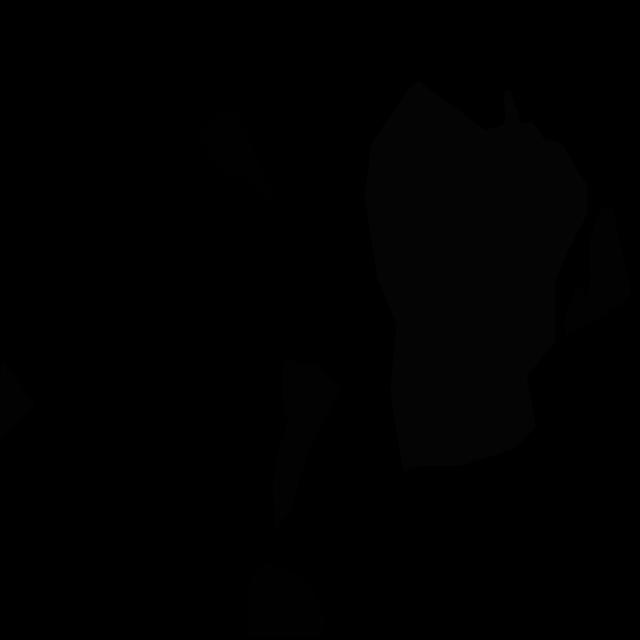cardboard: (272, 358, 341, 531), (563, 205, 632, 336), (0, 356, 36, 441)
rigid_plastic: (196, 110, 278, 205), (246, 560, 326, 637)
soft_plastic: (364, 81, 588, 471)
